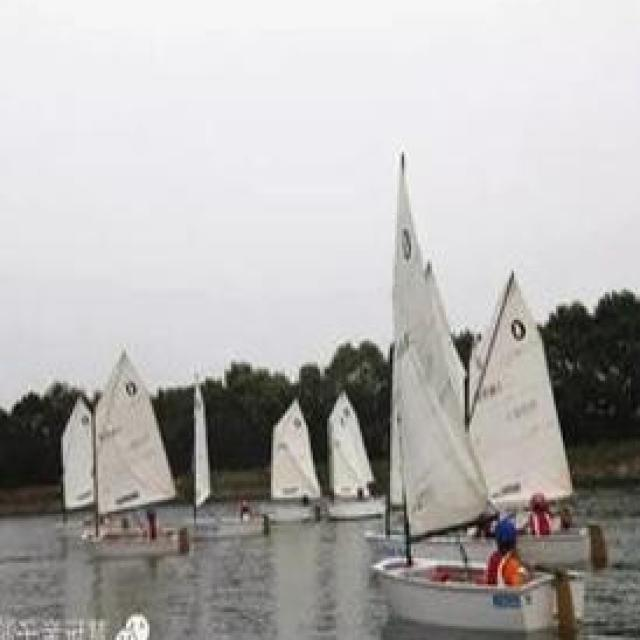sailboat: (381, 149, 588, 640), (463, 269, 612, 573), (96, 348, 185, 565), (251, 393, 331, 536), (180, 372, 246, 540), (325, 378, 394, 519), (46, 393, 103, 548)
